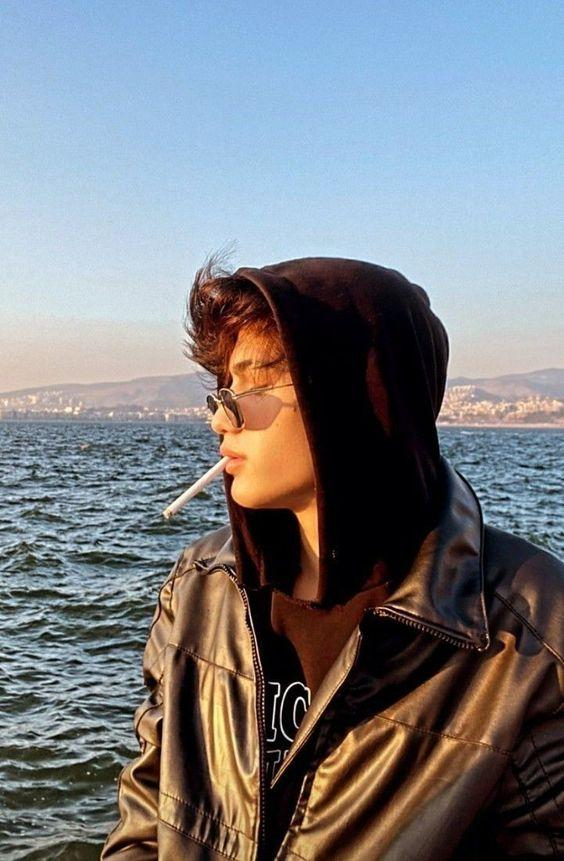cigarette: (163, 457, 229, 519)
